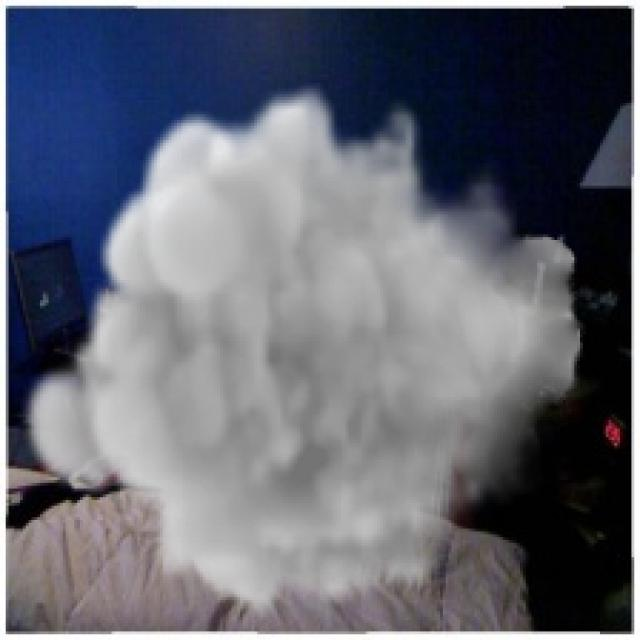smoke: (17, 83, 586, 617)
